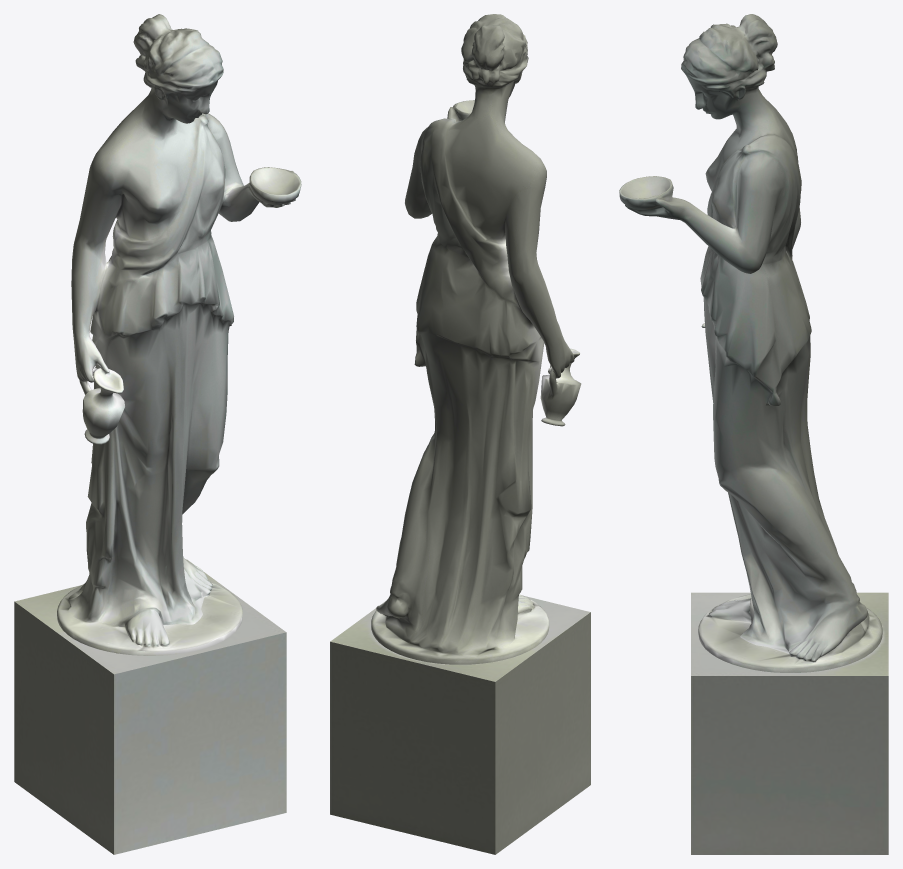
The model's file is statue2.fbx.
The picture shows the model from 3 angles, left to right: view 1: azimuth 30°, elevation 25°; view 2: azimuth 150°, elevation 25°; view 3: azimuth 270°, elevation 25°; orthographic projection. The views are drawn at different scales.
Visible parts, largest first — view 1: polySurface3; view 2: polySurface3; view 3: polySurface3.
Part boxes in pixels (x1,y1,x2,y2): polySurface3: [14, 14, 301, 854]; polySurface3: [330, 14, 590, 854]; polySurface3: [619, 14, 888, 854].
Bounding box in the file's own units: 74.19 × 314 × 96.84.
